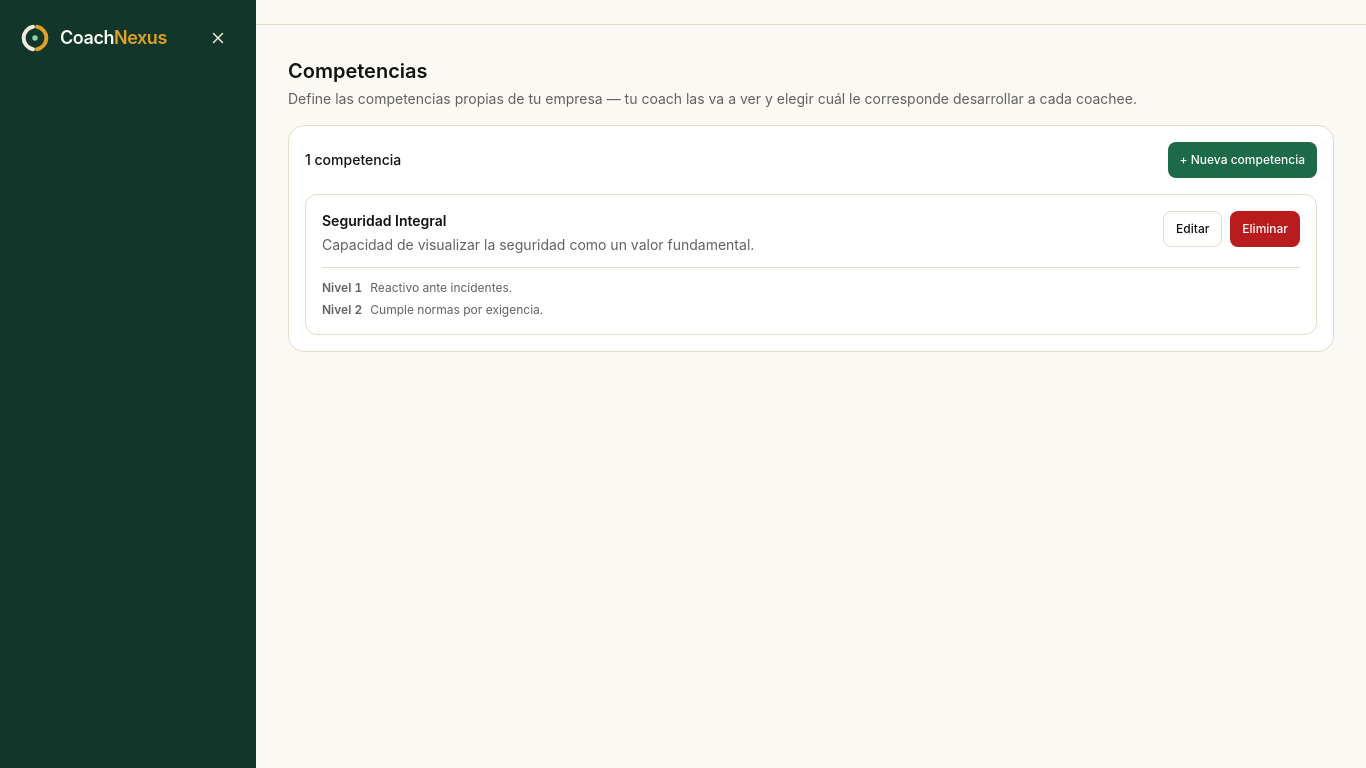
Scenario: CompetenciasView (empresa) › rejects saving when a nivel is left without descripción
This screenshot has width=1366, height=768.
Click the button "+ Nueva competencia": (1242, 160) [1168,142,1317,178]
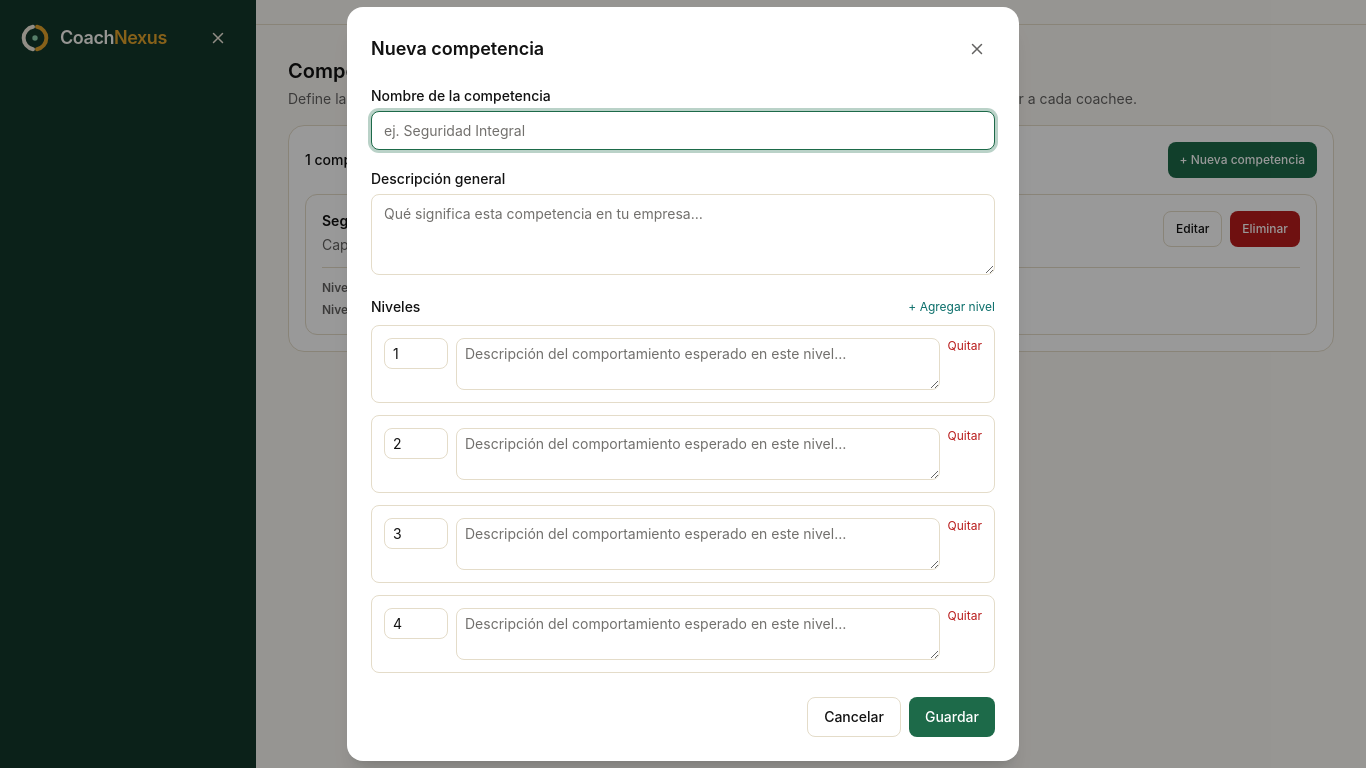
In the field labelled "Nombre de la competencia": (683, 130) [371,111,995,150], type "Liderazgo"
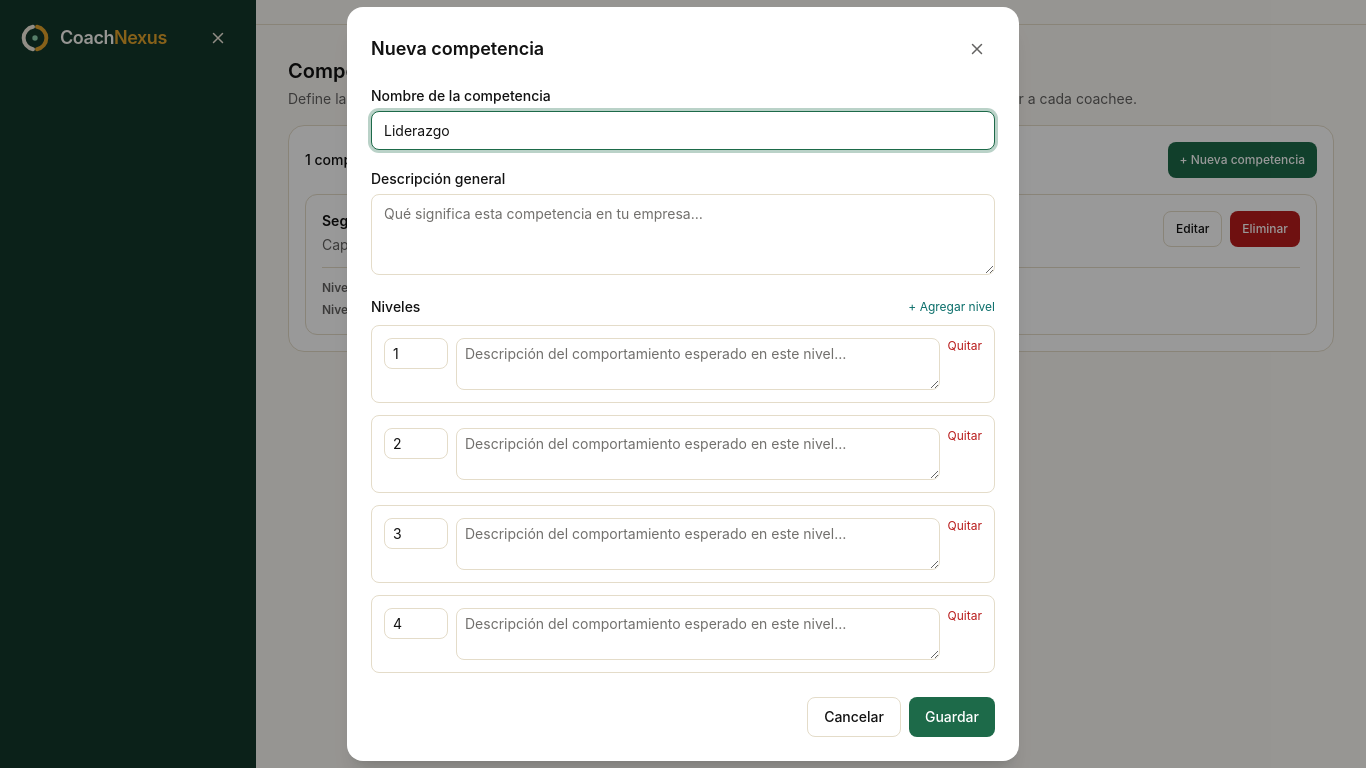
In the text box labelled "Descripción general": (683, 234) [371,194,995,275], type "Definición"
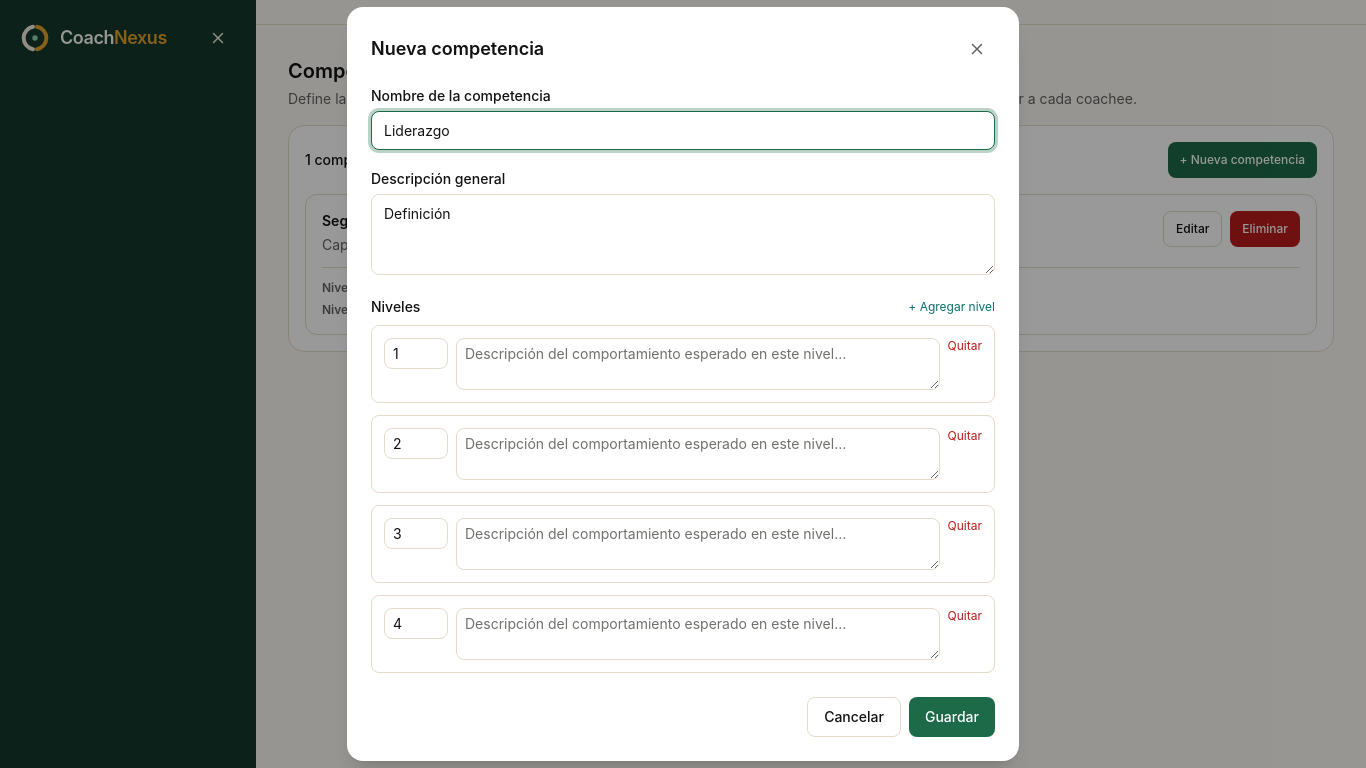
Los niveles quedan vacíos a propósito.
Submit the form, box [371,83,995,737]
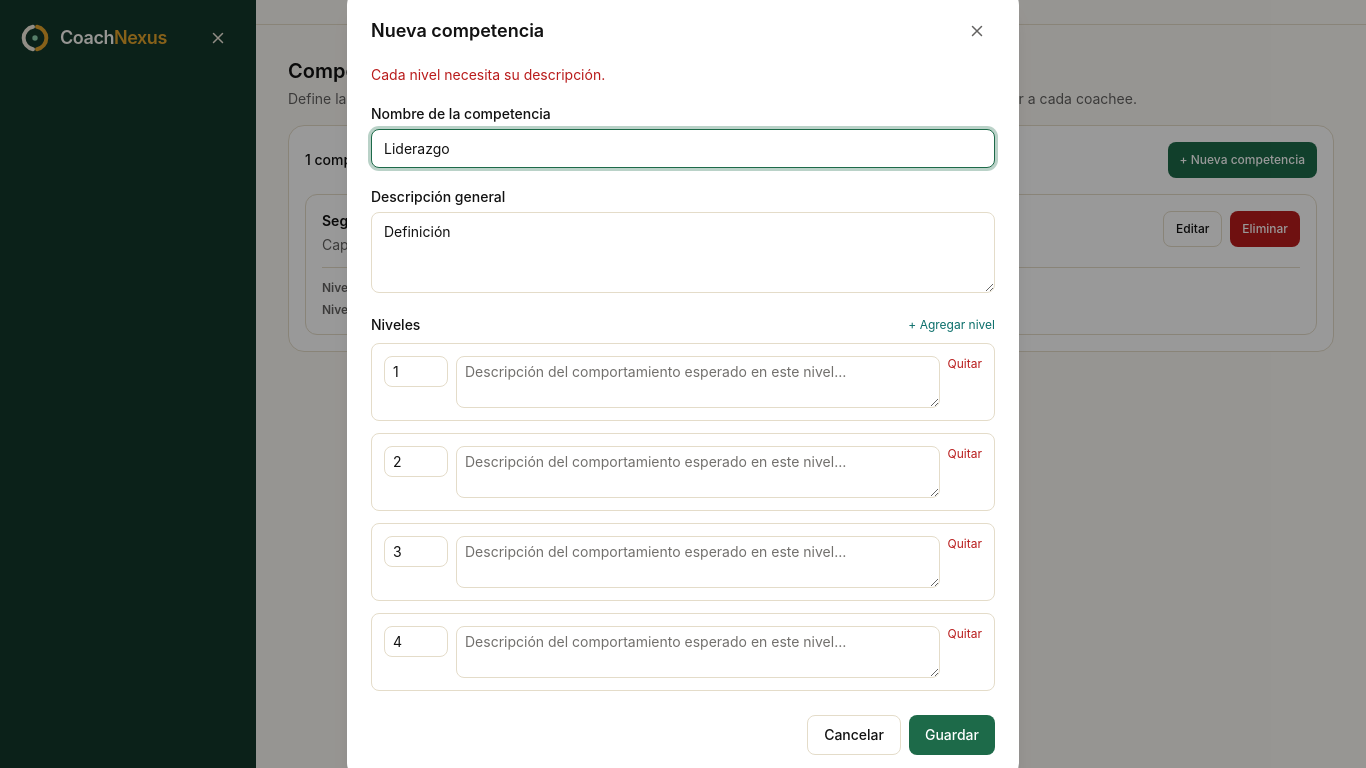
Expected: the text "Cada nivel necesita su descripción" is shown, [371,66,605,83]
